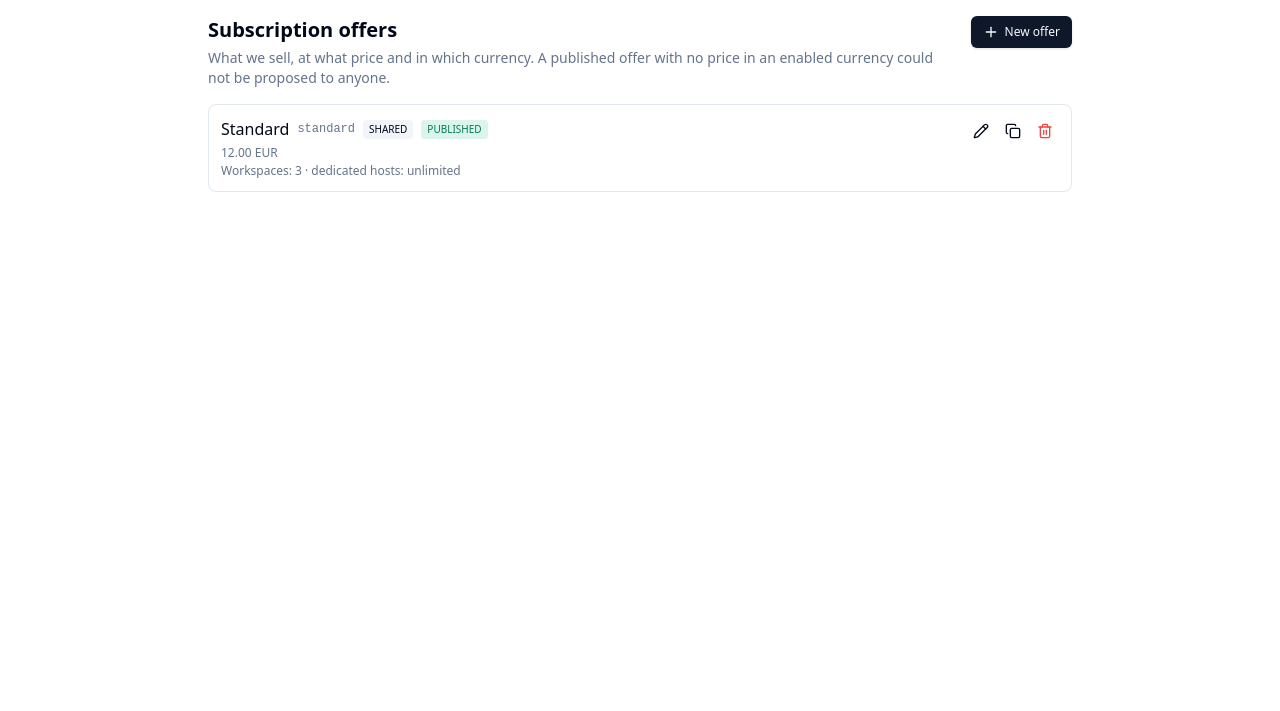
Test case: AdminBillingOffers › la majoration des devises derivees vaut 1 par defaut
The width and height of the screenshot is (1280, 711).
Click the button named "Edit offer" at (981, 131), box left=967, top=117, right=995, bottom=145
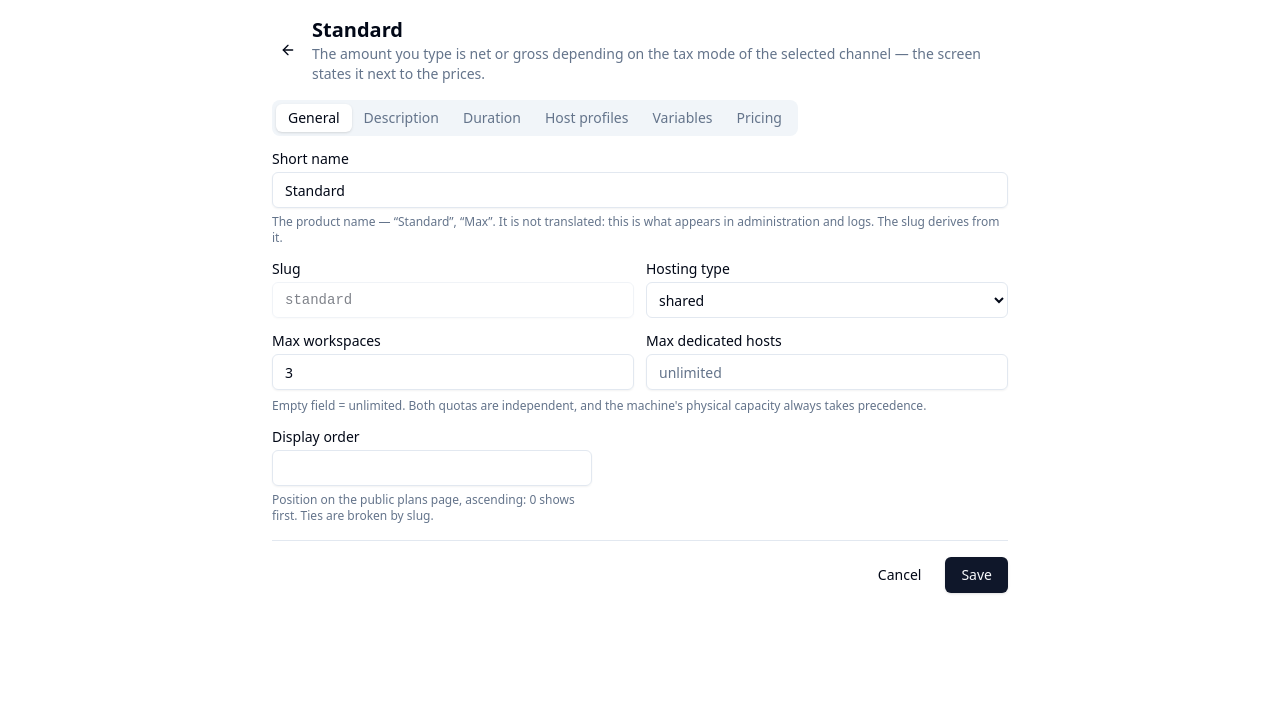
Click the tab "Pricing" at (759, 118), box left=724, top=104, right=794, bottom=132
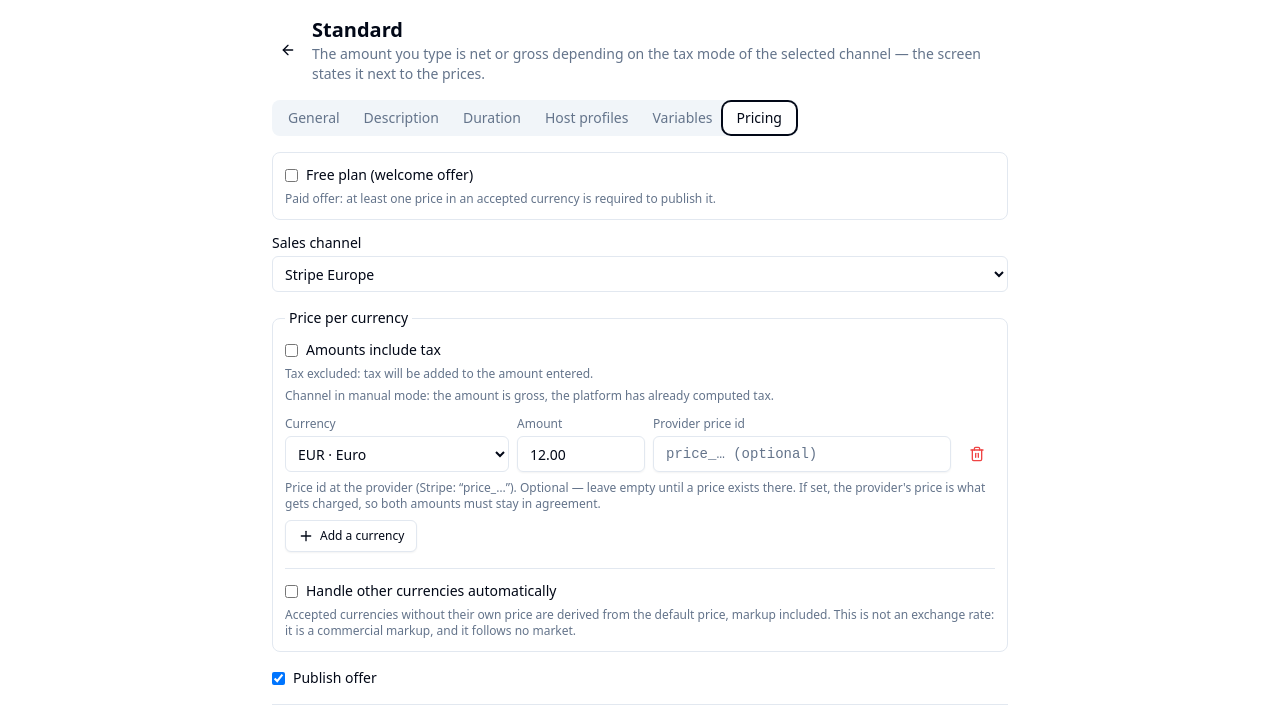
Check: the checkbox labelled "Handle other currencies automatically" is not checked
Click the checkbox labelled "Handle other currencies automatically" at (292, 591), box left=285, top=584, right=298, bottom=598
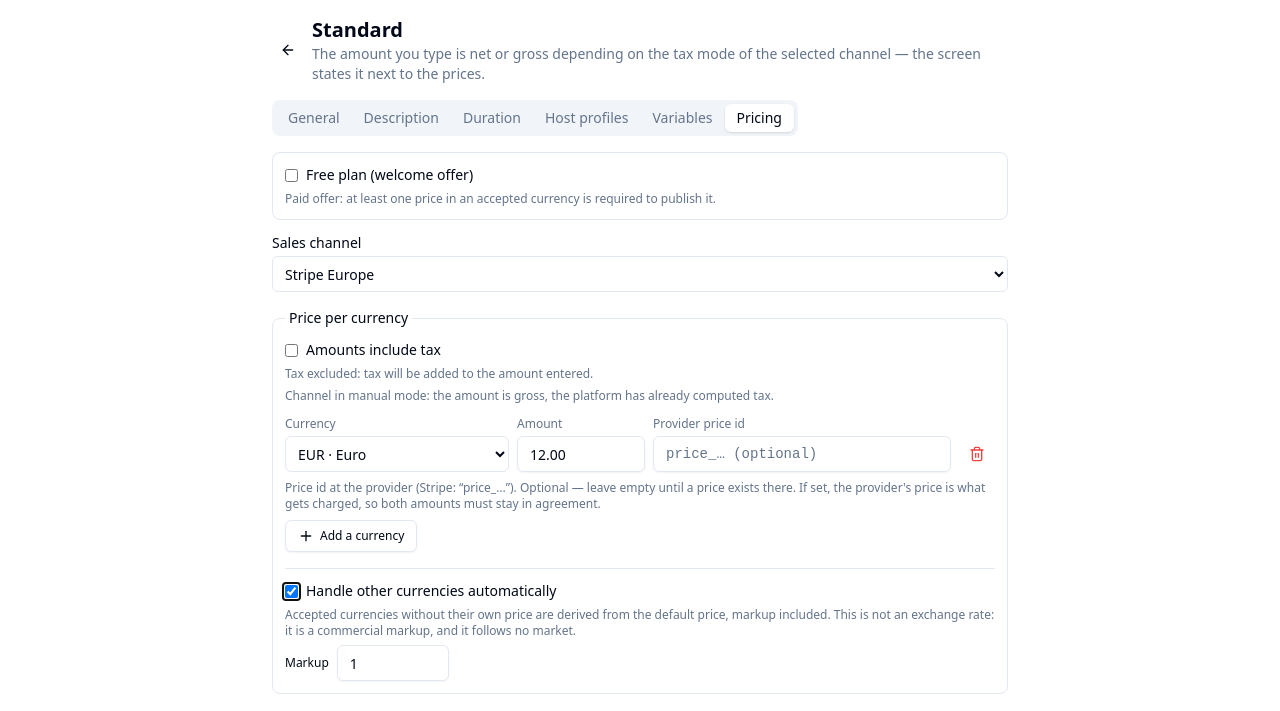
Check: the number field labelled "Markup" holds "1", box left=337, top=645, right=449, bottom=681
